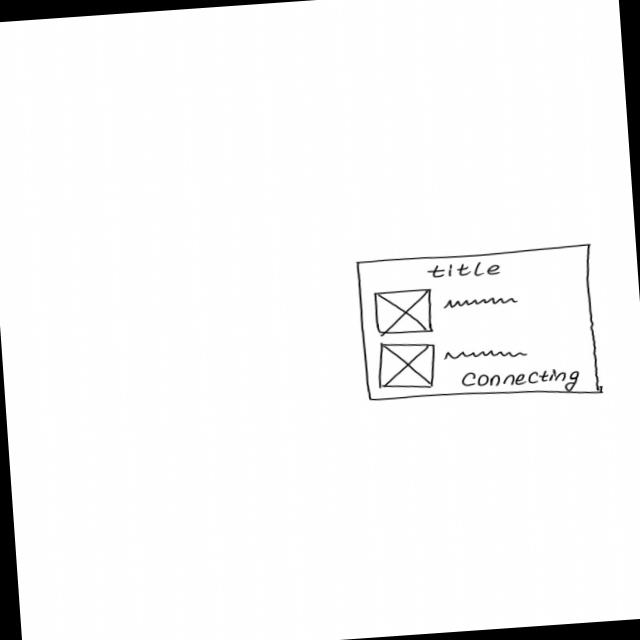container: (355, 244, 607, 412)
image: (375, 339, 440, 393), (373, 287, 436, 338)
label: (460, 365, 582, 400), (426, 259, 503, 281)
text: (442, 346, 530, 363), (441, 295, 521, 311)
